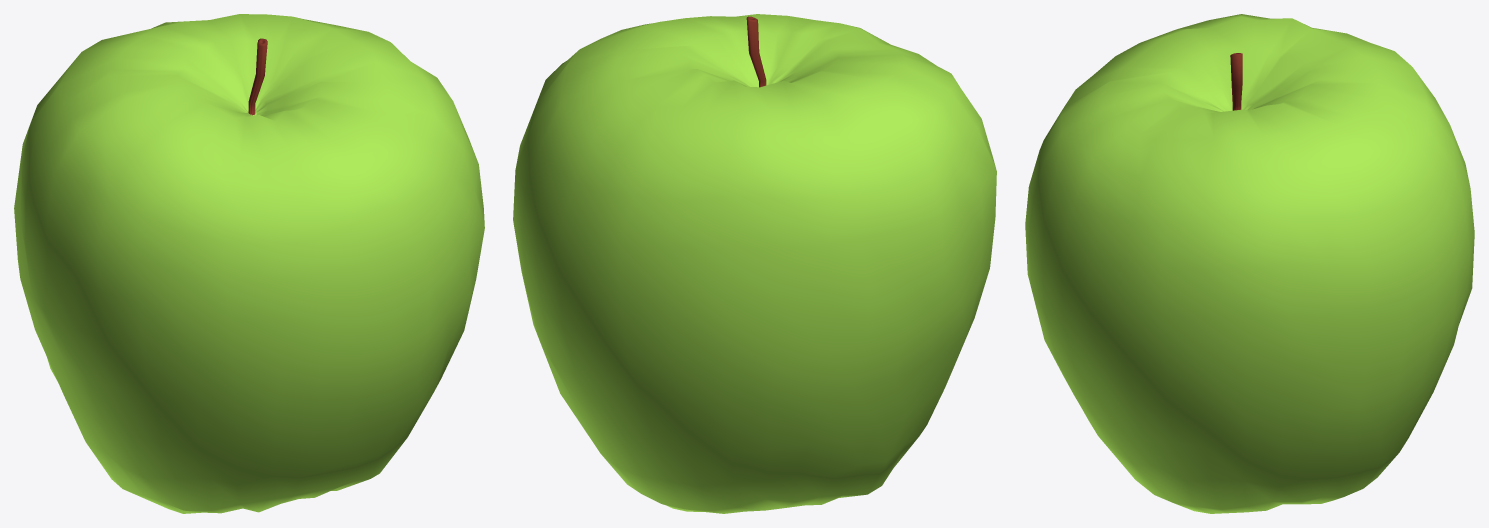
The model's file is apple.glb.
3 renders of one model, left to right at view 1: azimuth 30°, elevation 25°; view 2: azimuth 150°, elevation 25°; view 3: azimuth 270°, elevation 25°, orthographic. The views are drawn at different scales.
Visible parts, largest first — view 1: Sphere; view 2: Sphere; view 3: Sphere.
Boxes of the visible parts, x1,y1,x2,y2 form: Sphere: [14, 14, 484, 513]; Sphere: [513, 14, 996, 513]; Sphere: [1025, 14, 1474, 513].
Size of the model in its own units: 1.15 by 1.19 by 1.13.
